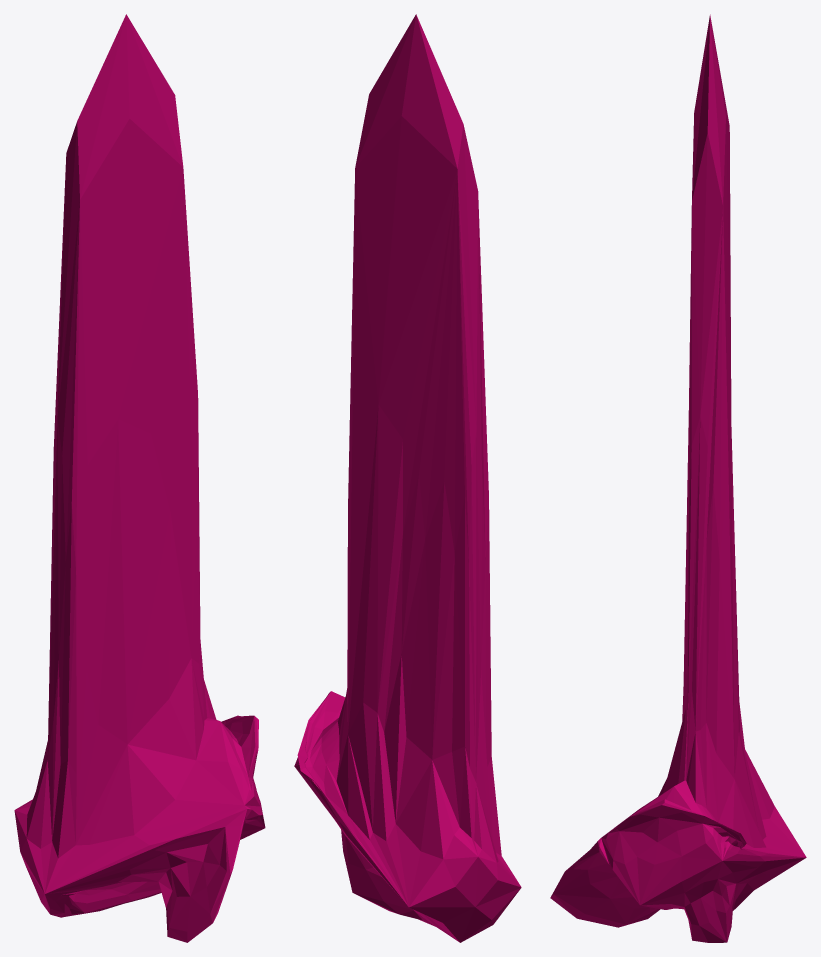
The picture shows the model from 3 angles, left to right: view 1: azimuth 30°, elevation 25°; view 2: azimuth 150°, elevation 25°; view 3: azimuth 270°, elevation 25°; orthographic projection. The views are drawn at different scales.
Visible parts, largest first — view 1: 214_Cube.884; view 2: 214_Cube.884; view 3: 214_Cube.884.
Part boxes in pixels (bbox=[...]): 214_Cube.884: bbox=[14, 14, 265, 942]; 214_Cube.884: bbox=[294, 14, 521, 942]; 214_Cube.884: bbox=[550, 14, 806, 942].
Bounding box in the file's own units: 2.97 × 12.23 × 3.08.
